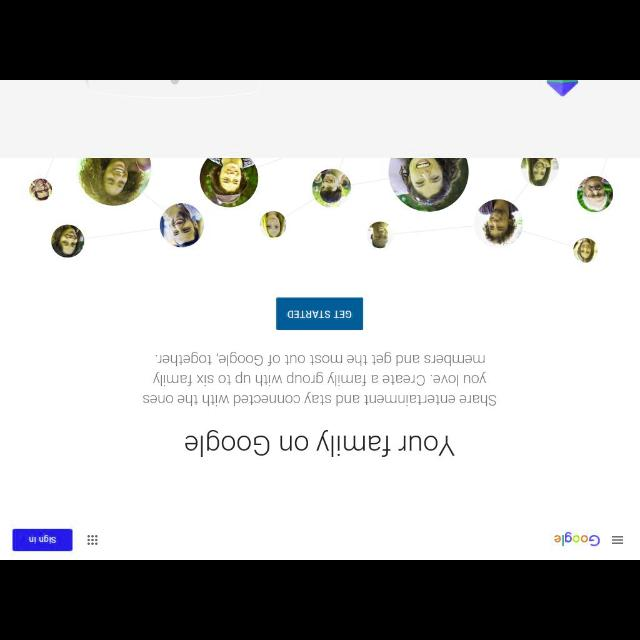icon: (87, 532, 99, 546), (610, 534, 624, 544)
image: (29, 156, 614, 264), (554, 532, 600, 546)
text: (142, 352, 498, 406), (185, 431, 455, 457), (288, 309, 352, 319), (27, 534, 58, 544)
textbutton: (277, 299, 363, 329), (11, 530, 70, 550)
